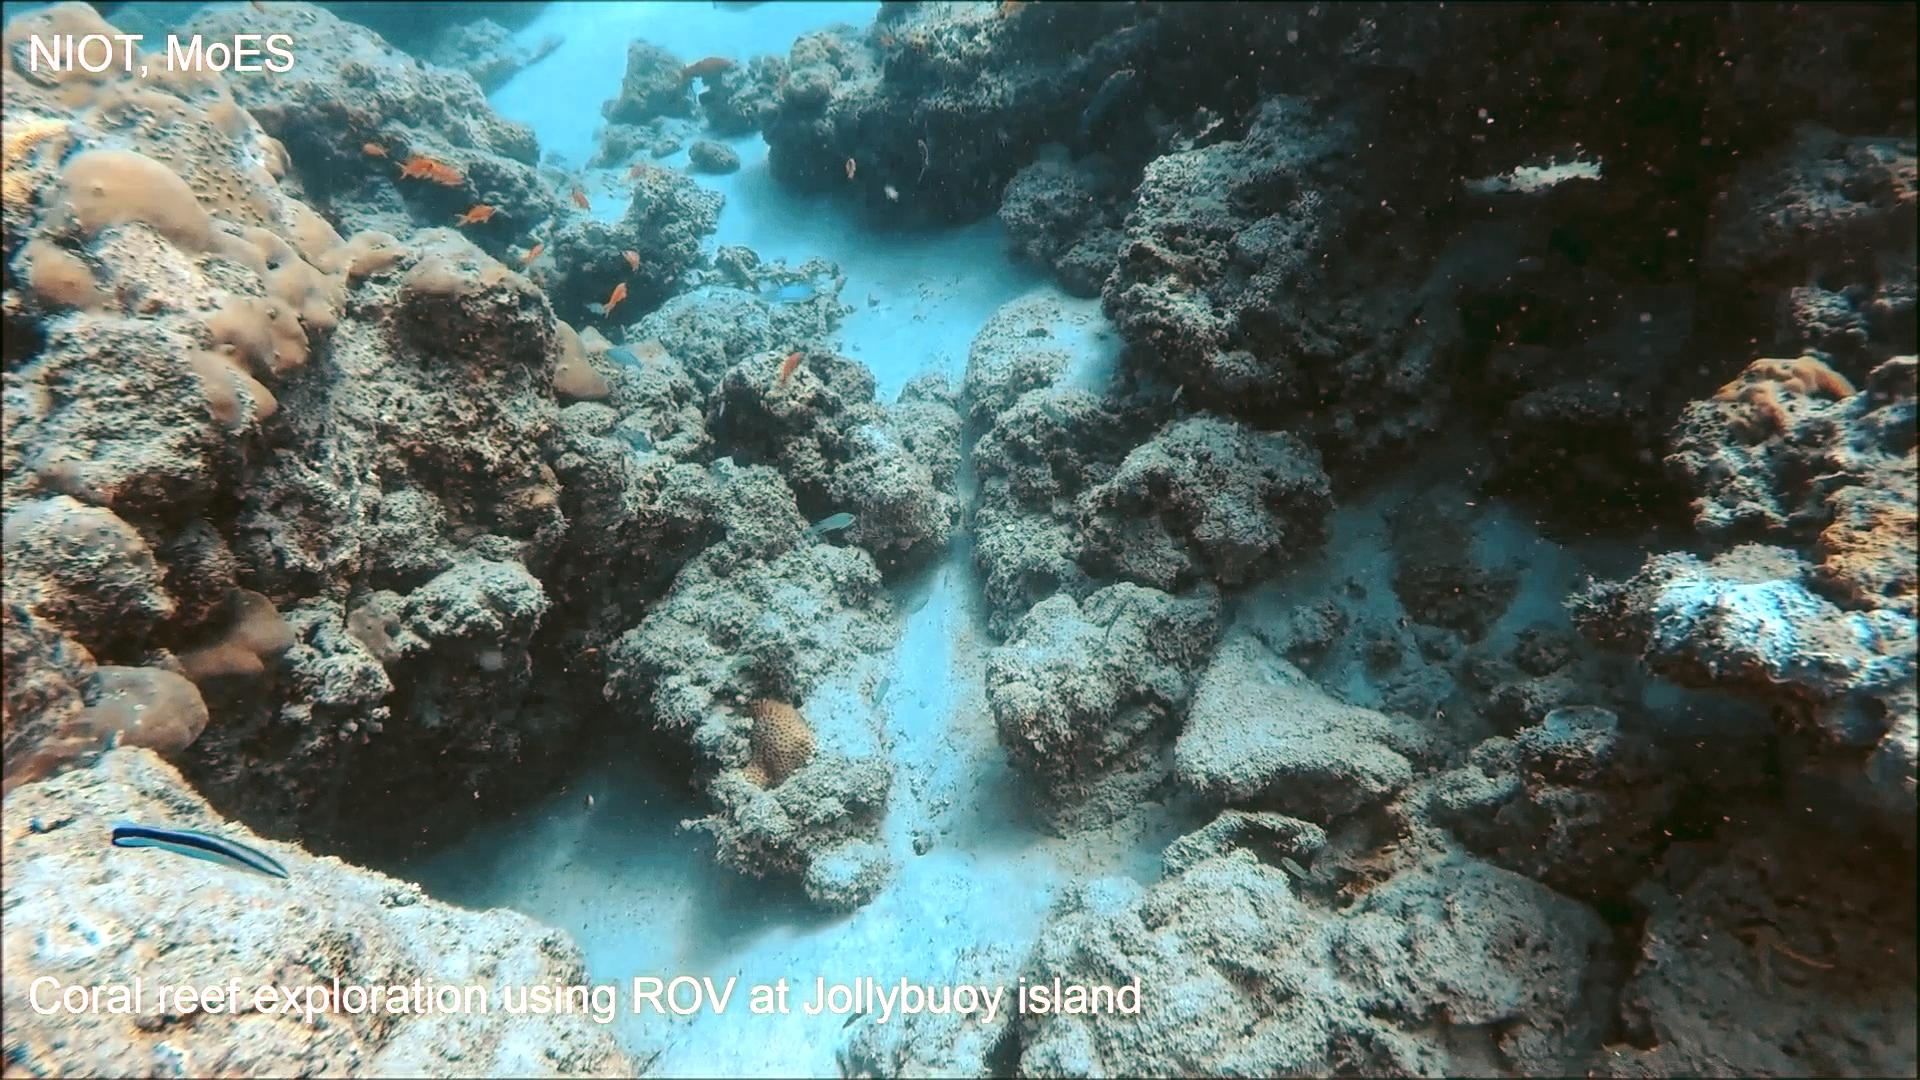Porites-Porites pukoensis: (0, 0, 419, 439)
